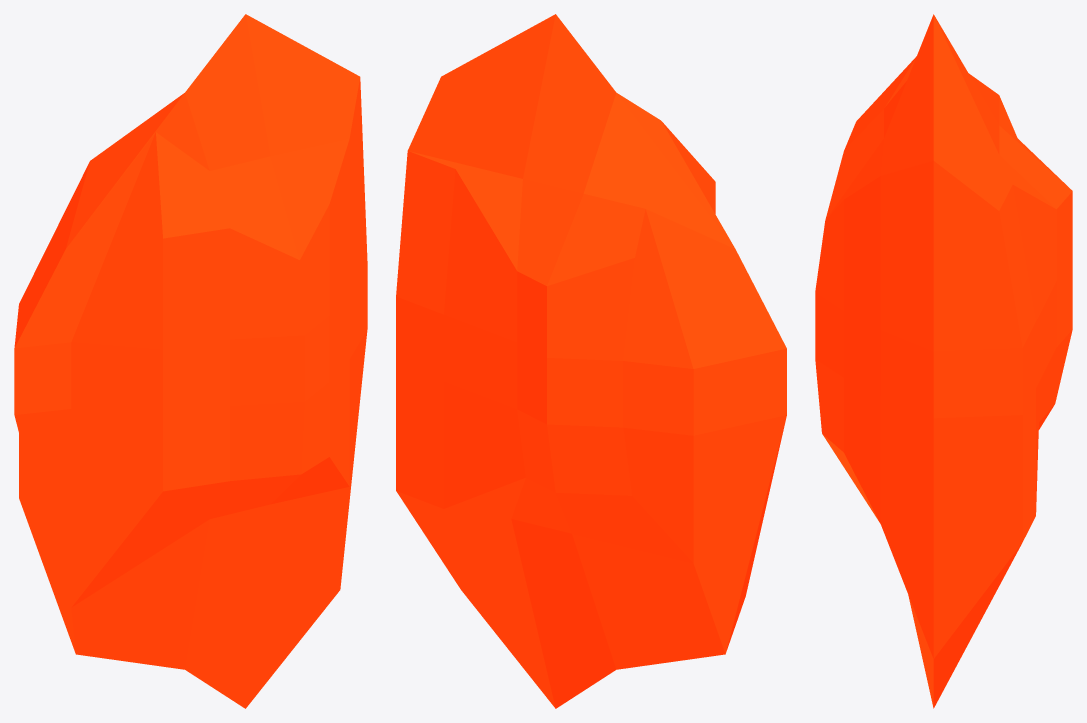
The model's file is Embers.fbx.
The picture shows the model from 3 angles, left to right: view 1: azimuth 30°, elevation 25°; view 2: azimuth 150°, elevation 25°; view 3: azimuth 270°, elevation 25°; orthographic projection.
Parts seen in each view (by area): view 1: Cube_2; view 2: Cube_2; view 3: Cube_2.
Boxes of the visible parts, <box> form: Cube_2: <box>14,14,367,708</box>; Cube_2: <box>396,14,786,708</box>; Cube_2: <box>815,14,1072,708</box>.
Bounding box in the file's own units: 17.31 × 32.55 × 10.93.
